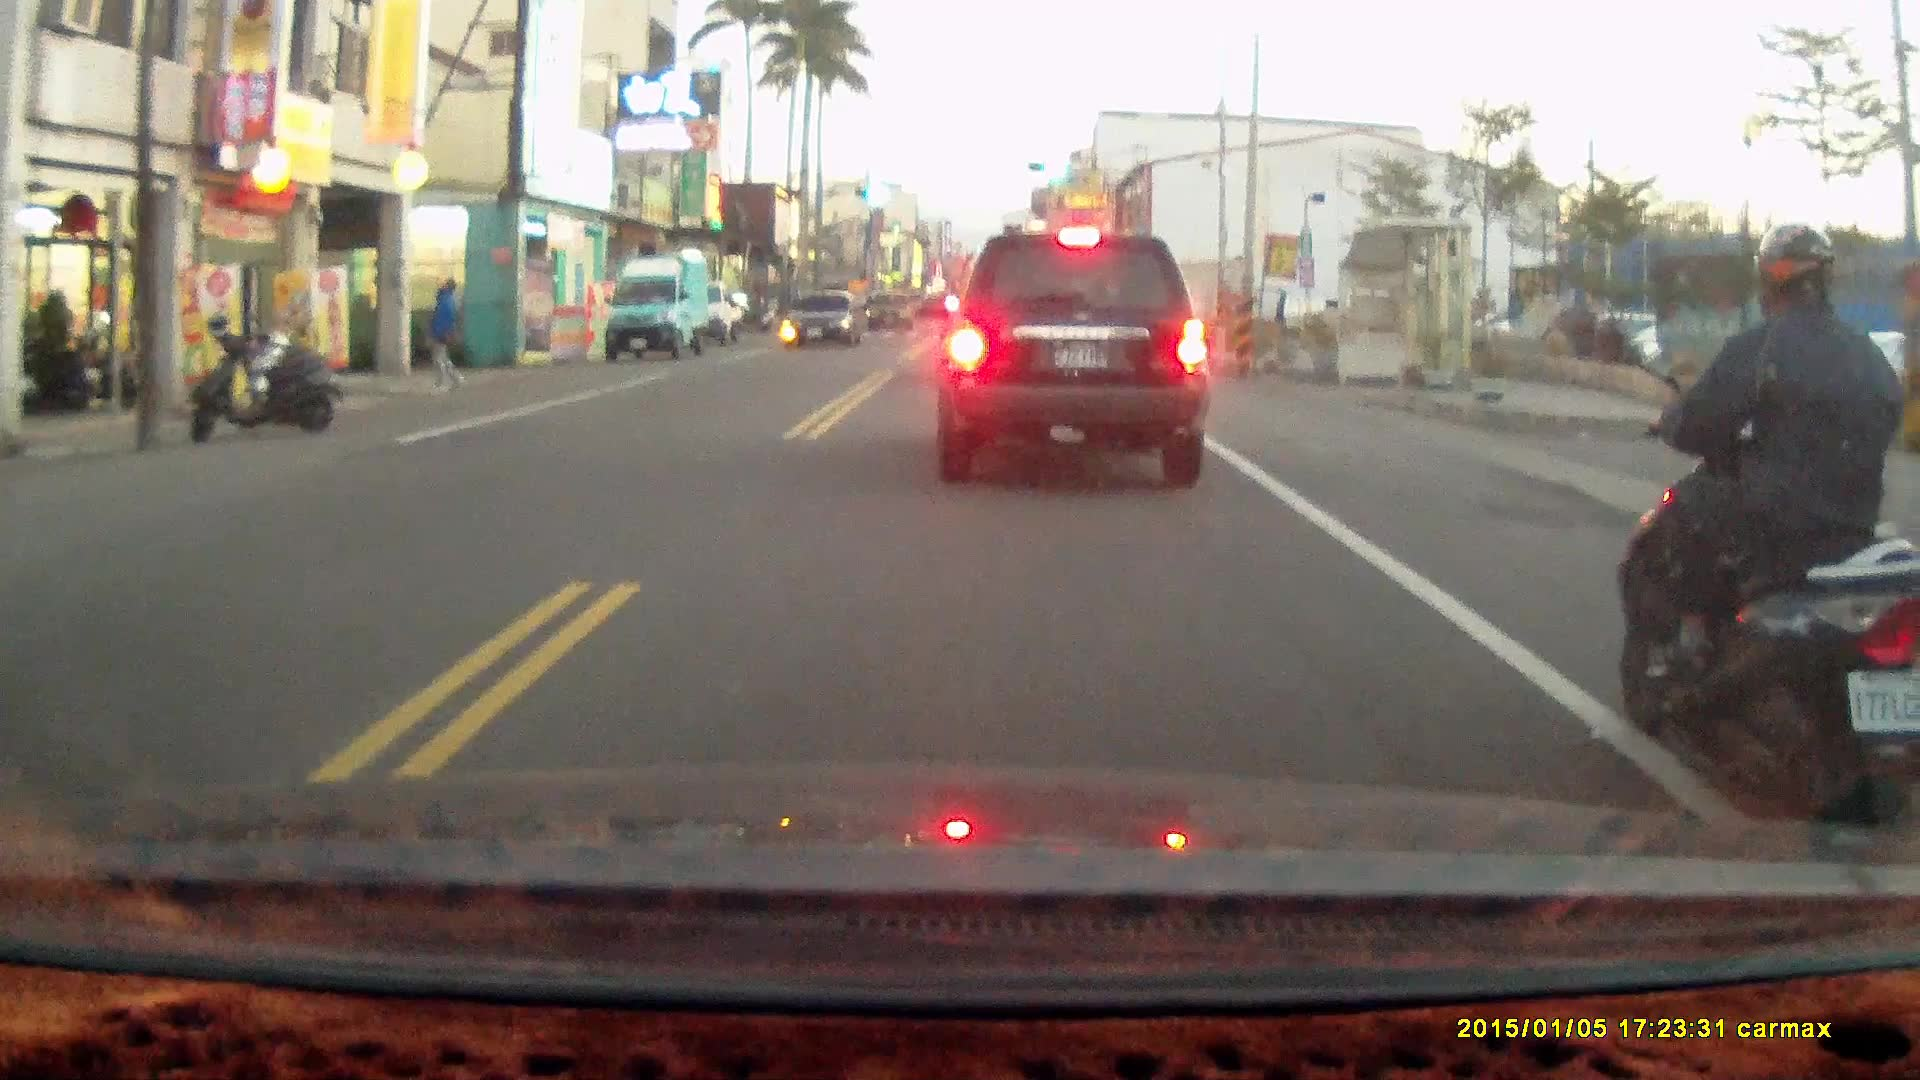pedestrian: (427, 276, 463, 397)
rider: (1617, 215, 1920, 840)
vehicle: (931, 228, 1214, 482), (598, 248, 714, 365), (783, 291, 871, 350), (865, 290, 917, 334)
